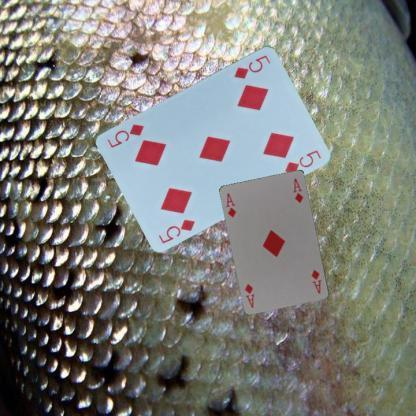5d: (232, 51, 272, 80), (156, 216, 196, 245)
Ad: (308, 266, 323, 296), (223, 191, 238, 220)
